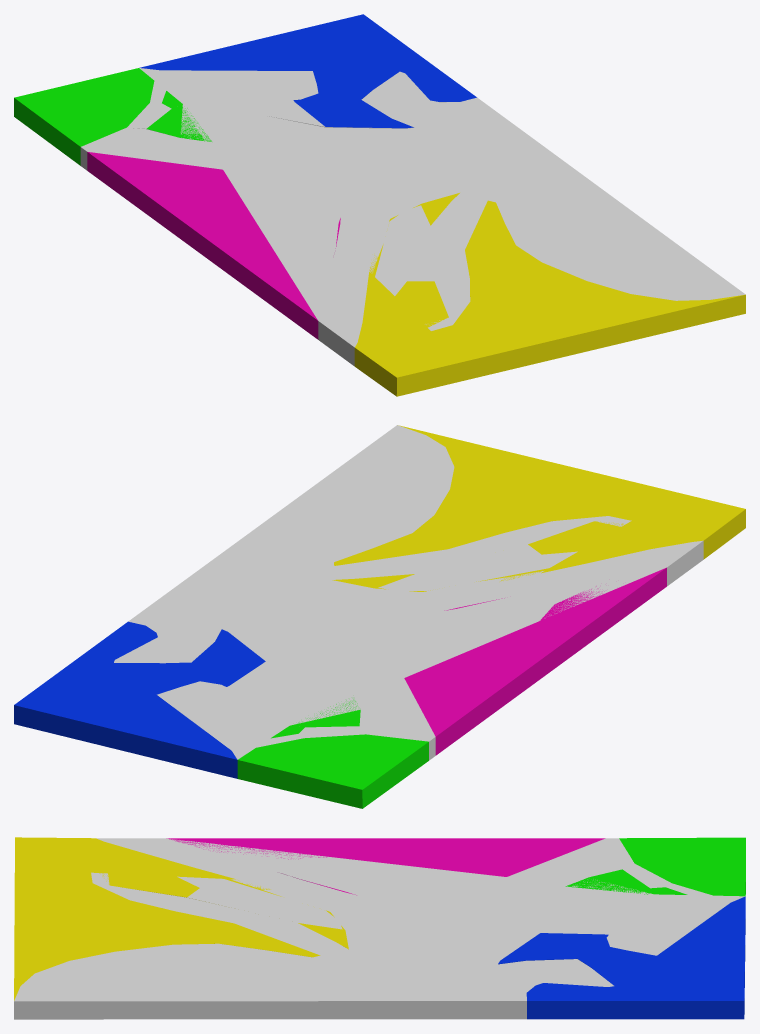
File: spder.fbx
3 views of the same model, one above another, from view 1: azimuth 30°, elevation 25°; view 2: azimuth 150°, elevation 25°; view 3: azimuth 270°, elevation 25° (orthographic). The views are drawn at different scales.
Parts seen in each view (by area): view 1: Cube.045, Cube.047, Cube.050, Cube.048, Cube.049; view 2: Cube.045, Cube.047, Cube.050, Cube.048, Cube.049; view 3: Cube.045, Cube.047, Cube.050, Cube.048, Cube.049.
Boxes of the visible parts, x1,y1,x2,y2 form: Cube.045: (80,68,745,366); Cube.047: (354,193,745,396); Cube.050: (139,14,476,128); Cube.048: (87,152,340,339); Cube.049: (14,68,211,165); Cube.045: (114,425,703,760); Cube.047: (332,425,745,591); Cube.050: (14,621,265,778); Cube.048: (404,567,666,755); Cube.049: (237,699,428,808); Cube.045: (14,838,744,1019); Cube.047: (14,837,348,1000); Cube.050: (498,896,745,1019); Cube.048: (166,838,605,895); Cube.049: (565,837,745,896).
Bounding box in the file's own units: 30.76 × 1.74 × 58.58.
